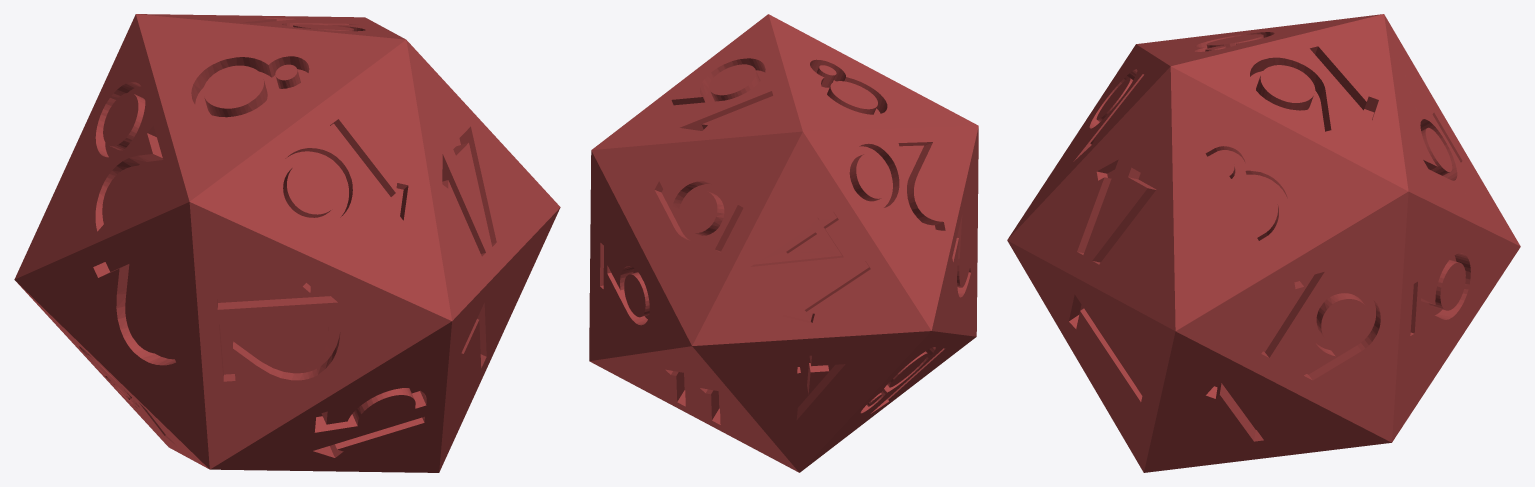
3 renders of one model, left to right at view 1: azimuth 30°, elevation 25°; view 2: azimuth 150°, elevation 25°; view 3: azimuth 270°, elevation 25°, orthographic. The views are drawn at different scales.
Size of the model in its own units: 25.85 by 24.48 by 27.34.
